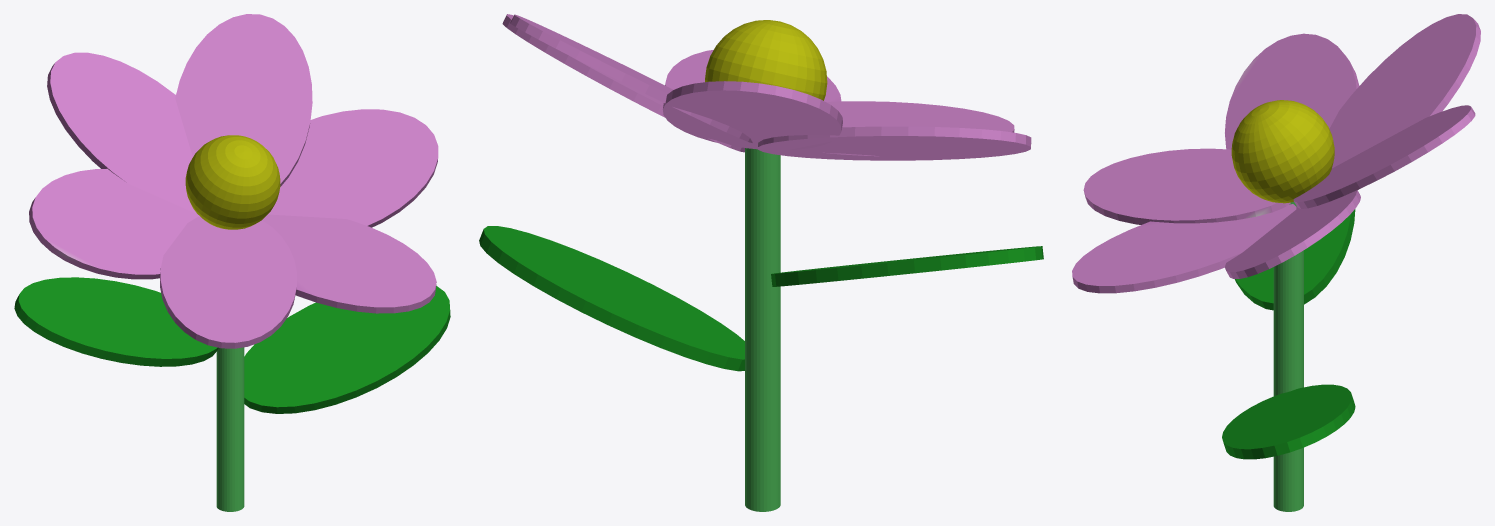
File: flower1.glb
3 renders of one model, left to right at view 1: azimuth 30°, elevation 25°; view 2: azimuth 150°, elevation 25°; view 3: azimuth 270°, elevation 25°, orthographic. The views are drawn at different scales.
Parts seen in each view (by area): view 1: Sphere; view 2: Sphere; view 3: Sphere.
Boxes of the visible parts, x1,y1,x2,y2 form: Sphere: [14, 14, 450, 511]; Sphere: [479, 14, 1043, 511]; Sphere: [1072, 14, 1480, 511].
Size of the model in its own units: 0.5437 by 0.4953 by 0.4138.
